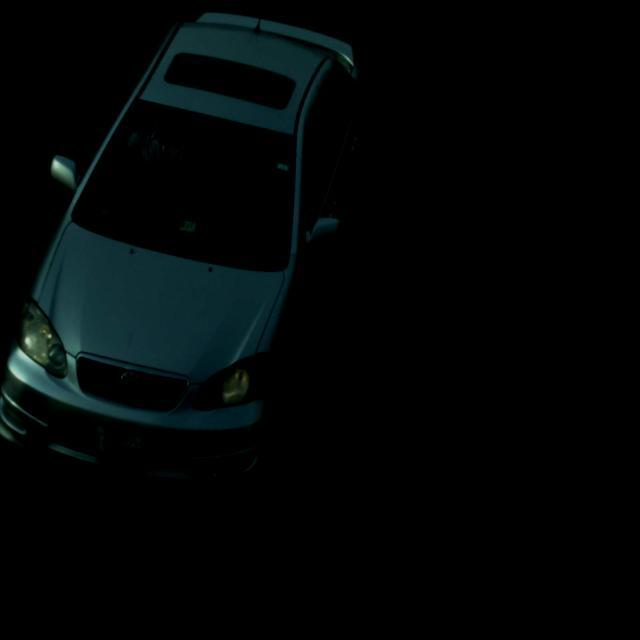windshield: (70, 103, 306, 274)
